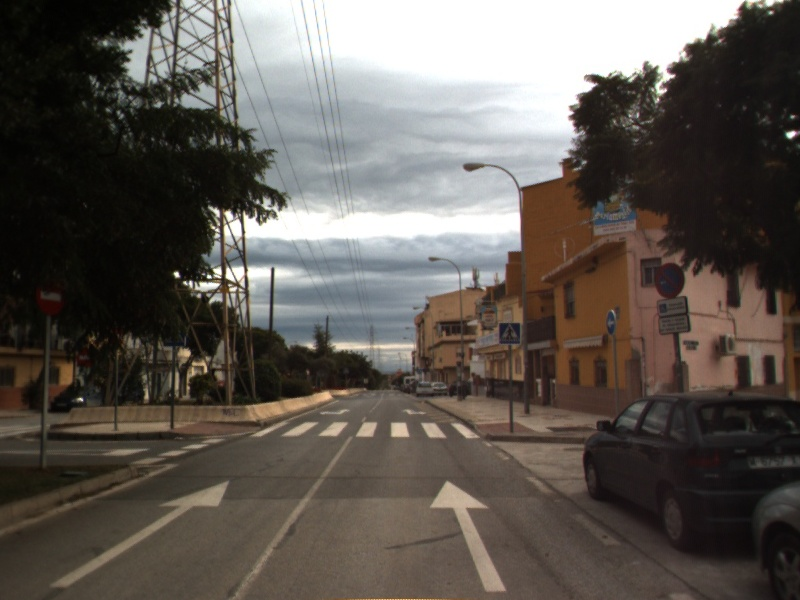STRAIGHT: (46, 478, 232, 590), (427, 478, 511, 594)
STRAIGHT_LEFT: (318, 407, 353, 417)
STRAIGHT_RIGHT: (400, 406, 429, 417)
